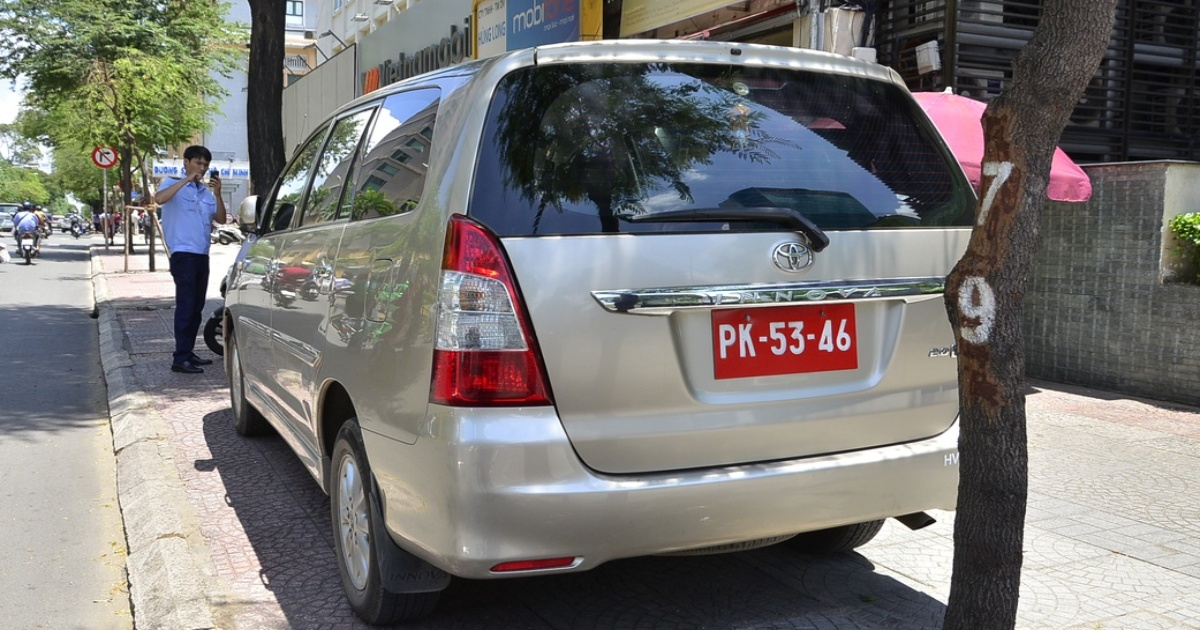plate: (712, 301, 858, 376)
